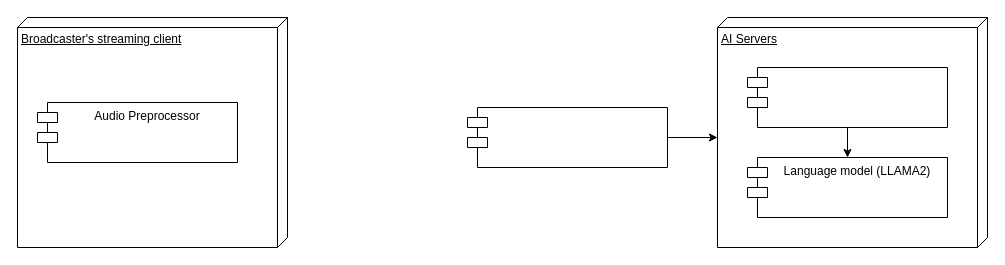
The diagram is 1005 pixels wide and 265 high, and some of its shapes have lost their labels. Each missing label, with the box of its shape:
Load Balancer: (466, 106, 668, 168)
Text-to-speech algorithm: (746, 66, 948, 128)
